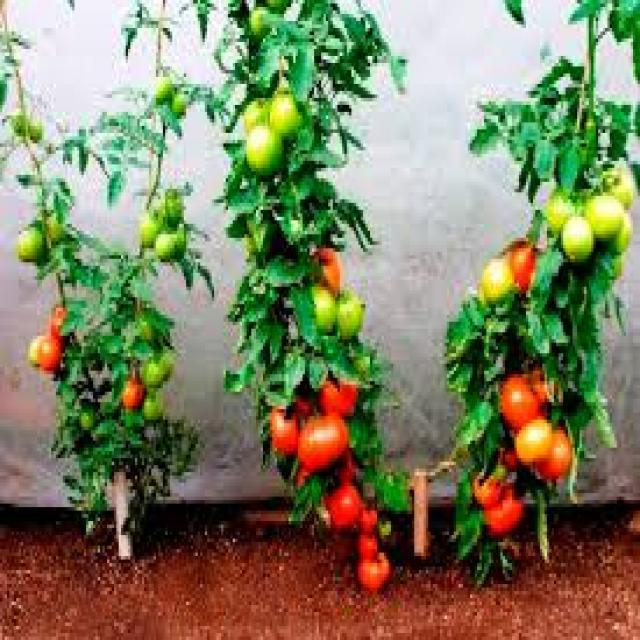organic waste: (296, 409, 349, 476), (270, 388, 312, 462), (498, 234, 540, 304), (498, 371, 538, 434), (479, 482, 522, 538), (314, 367, 361, 416), (475, 248, 512, 308), (584, 189, 622, 241), (242, 119, 279, 171), (537, 420, 568, 482), (512, 420, 552, 465), (319, 483, 358, 528), (542, 182, 577, 231), (305, 276, 335, 332), (602, 157, 638, 203), (333, 287, 365, 336), (268, 84, 300, 133), (470, 465, 503, 511), (12, 217, 42, 266), (561, 213, 591, 259), (310, 242, 338, 290), (37, 328, 63, 378), (137, 304, 168, 343), (240, 91, 268, 133), (140, 346, 170, 385), (356, 556, 389, 591), (49, 297, 72, 343), (135, 203, 158, 248), (160, 185, 184, 228), (153, 227, 184, 259), (119, 367, 142, 409), (610, 207, 628, 256), (496, 440, 519, 476), (246, 0, 272, 31), (354, 528, 382, 556), (354, 504, 377, 535), (75, 392, 93, 430), (151, 70, 172, 101), (44, 203, 61, 241), (23, 332, 42, 364), (168, 87, 186, 119), (377, 511, 391, 538), (10, 112, 23, 136), (26, 115, 37, 140)
